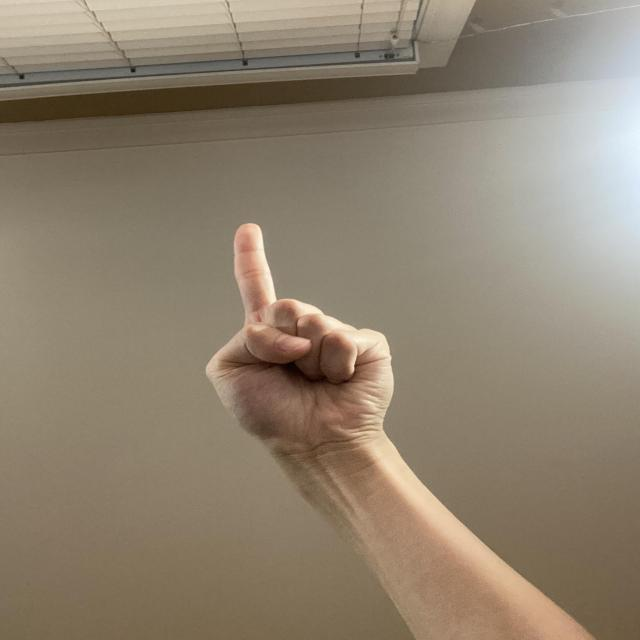Z: (195, 215, 404, 464)
